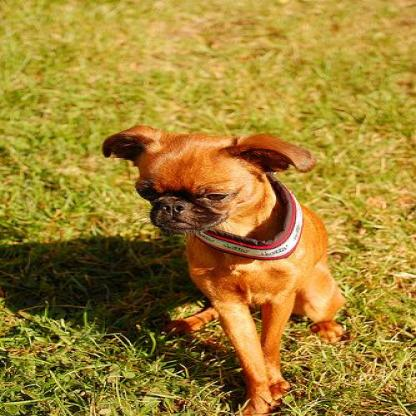Brabancon_griffon: (100, 124, 345, 413)
